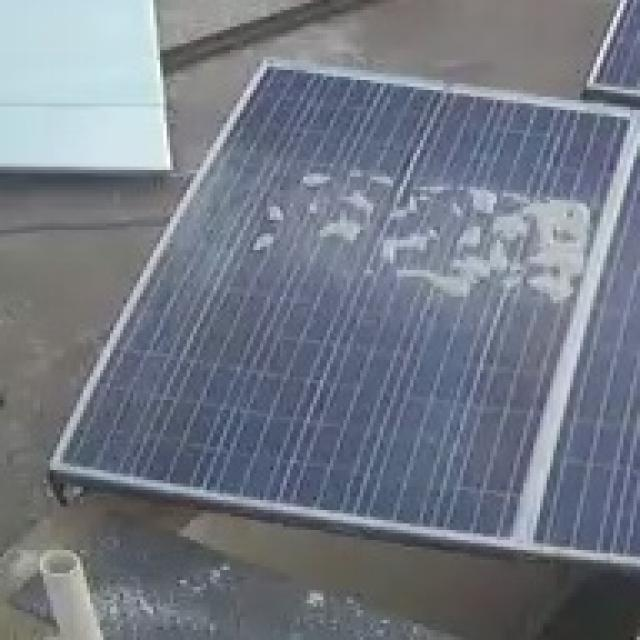faulty: (240, 113, 590, 311)
